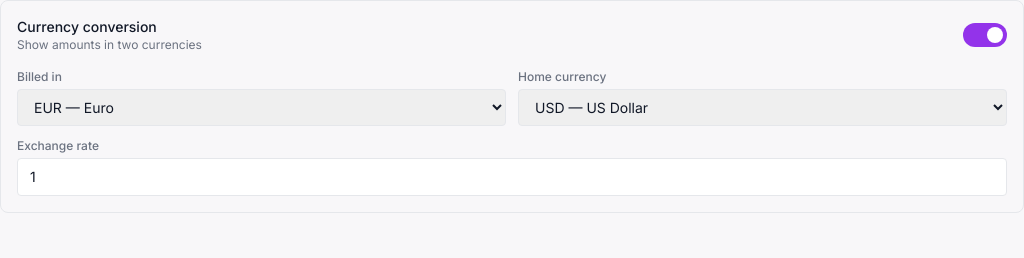
Test case: CurrencyConversionForm — same-currency error timing › clears error when user changes billed currency to differ from home currency
This screenshot has width=1024, height=258.
Note: First make them match
Select "USD — US Dollar" in the dropdown below "Billed in" at (262, 108), box [17,89,506,126]
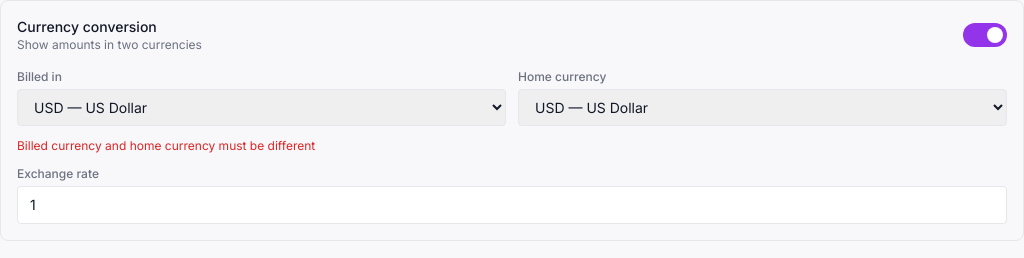
Check: the text "Billed currency and home currency must be different" is shown, box [17,138,315,153]
Note: Then fix it
Select "JPY — Japanese Yen" in the dropdown below "Billed in" at (262, 108), box [17,89,506,126]
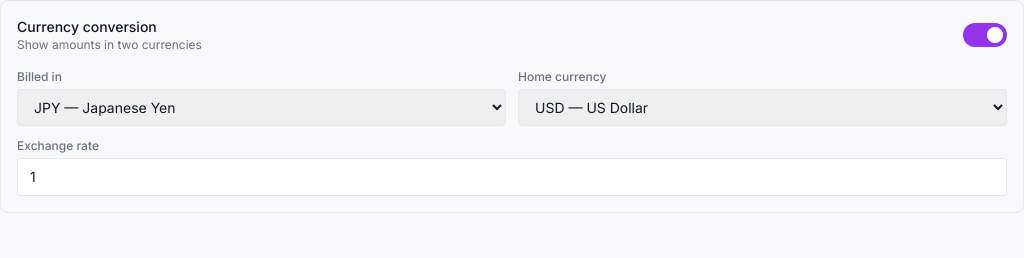
Check: the text "Billed currency and home currency must be different" is gone
